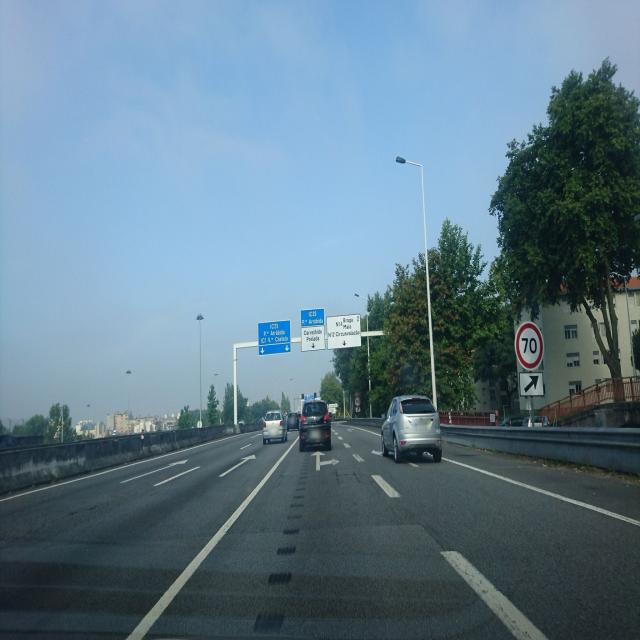car: (381, 393, 442, 463), (298, 398, 332, 453), (262, 410, 288, 444), (286, 410, 300, 430)
